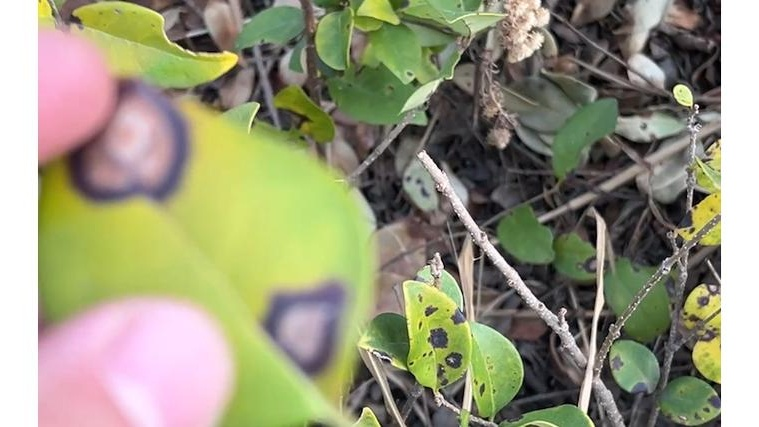Anthracnose: (618, 151, 728, 364), (266, 277, 388, 366), (400, 278, 505, 378), (123, 100, 238, 173)
